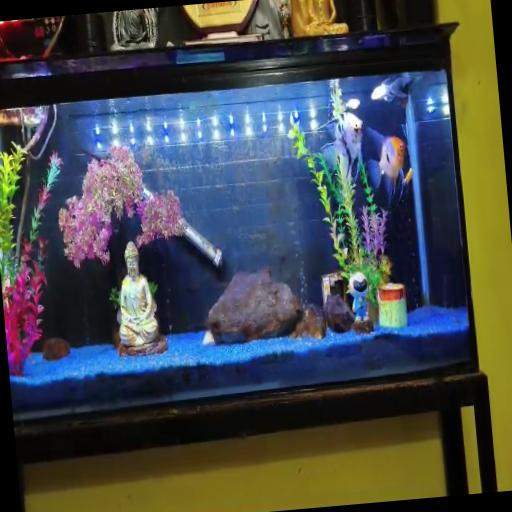Fish: (365, 129, 411, 208), (320, 113, 362, 182), (371, 72, 420, 105)
